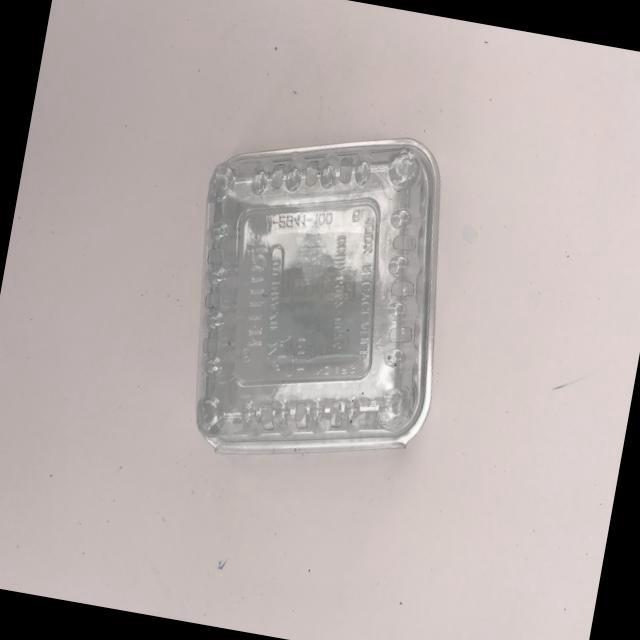plastic: (135, 100, 495, 510)
